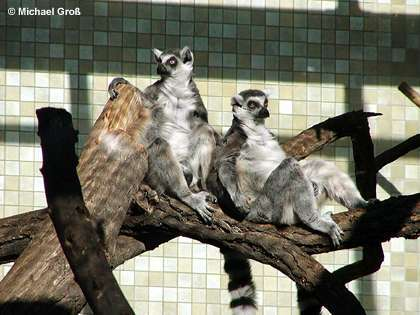cat: (146, 45, 260, 314), (213, 82, 377, 250)
